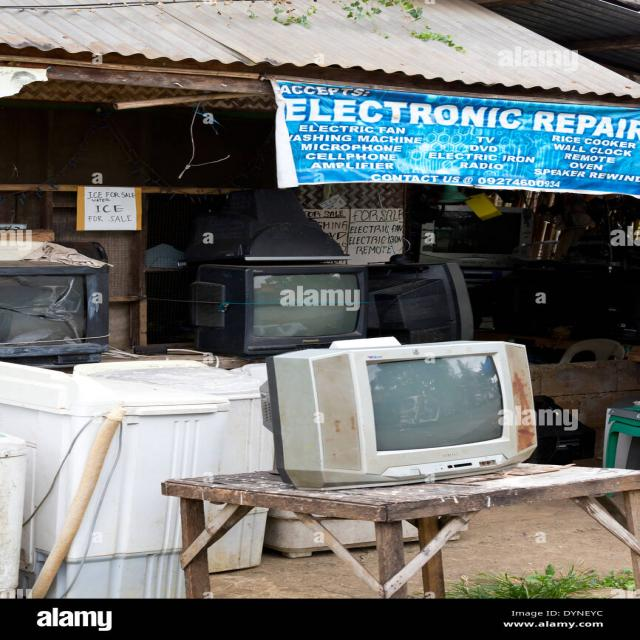appliances: (0, 361, 271, 598), (0, 433, 26, 598), (211, 511, 265, 570), (209, 506, 215, 517), (225, 536, 226, 538), (78, 367, 79, 369)
electronics: (0, 359, 271, 598), (263, 338, 535, 489), (185, 189, 365, 356), (420, 205, 639, 341), (420, 205, 639, 339), (191, 260, 472, 356), (190, 264, 367, 357), (412, 200, 531, 327), (462, 260, 639, 341), (469, 260, 639, 341), (0, 245, 107, 367), (482, 261, 639, 339), (185, 189, 347, 263), (143, 194, 221, 346), (0, 261, 107, 367), (367, 260, 472, 343), (483, 262, 593, 335), (73, 358, 260, 398), (532, 193, 635, 265), (420, 205, 531, 268), (420, 204, 531, 266), (546, 263, 616, 339), (525, 396, 594, 465), (145, 268, 195, 346), (205, 508, 265, 571), (264, 508, 329, 557), (264, 508, 327, 557), (460, 268, 511, 328), (599, 268, 639, 342), (602, 396, 639, 468), (599, 222, 639, 271), (313, 515, 374, 547), (518, 252, 621, 270), (568, 228, 618, 263), (406, 185, 445, 225), (321, 517, 374, 546), (607, 298, 639, 343), (511, 337, 562, 364), (461, 269, 511, 295), (53, 239, 107, 262), (0, 235, 44, 262), (56, 239, 107, 261), (465, 193, 501, 220), (518, 239, 562, 261), (146, 243, 184, 268), (613, 436, 639, 469), (61, 241, 106, 259), (329, 337, 399, 348), (437, 185, 468, 204), (242, 362, 265, 380), (584, 314, 602, 337), (204, 503, 221, 524), (243, 364, 265, 380), (132, 345, 167, 355), (403, 522, 417, 541), (403, 523, 416, 541), (626, 345, 639, 361), (262, 406, 271, 429), (0, 222, 26, 229), (480, 318, 491, 331), (619, 247, 629, 261), (0, 501, 4, 525), (555, 327, 562, 340), (10, 483, 17, 495), (260, 385, 267, 396), (618, 433, 625, 442), (629, 211, 636, 219), (529, 273, 534, 281), (545, 241, 558, 244), (0, 538, 4, 547), (38, 258, 48, 261), (465, 271, 469, 278), (629, 292, 634, 297), (546, 241, 556, 243), (569, 244, 574, 248), (26, 230, 31, 233), (262, 364, 265, 369), (583, 351, 587, 353), (607, 441, 608, 448), (0, 444, 1, 451), (545, 233, 548, 235), (48, 258, 51, 260), (0, 550, 1, 556), (200, 237, 202, 239), (605, 218, 607, 220), (254, 407, 257, 408), (571, 258, 574, 259), (548, 275, 551, 276), (487, 309, 489, 310), (462, 336, 463, 338), (624, 267, 625, 268), (534, 243, 535, 244), (582, 236, 583, 236), (541, 290, 542, 290), (591, 290, 593, 290)
